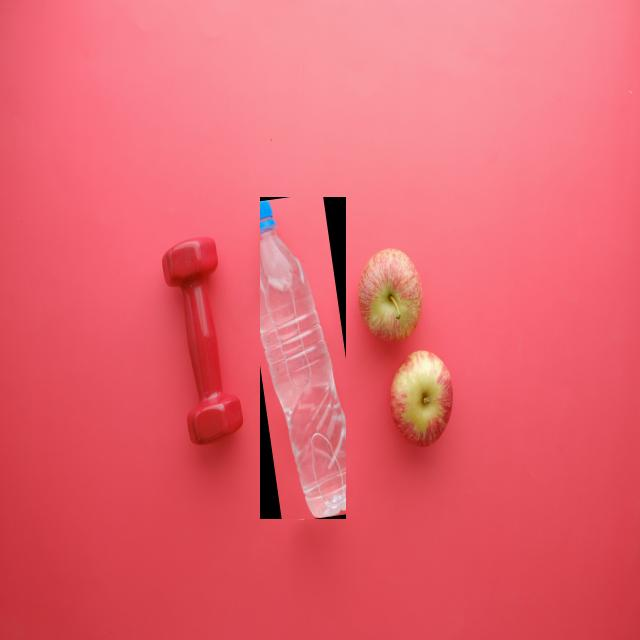Bottle: (260, 198, 344, 518)
